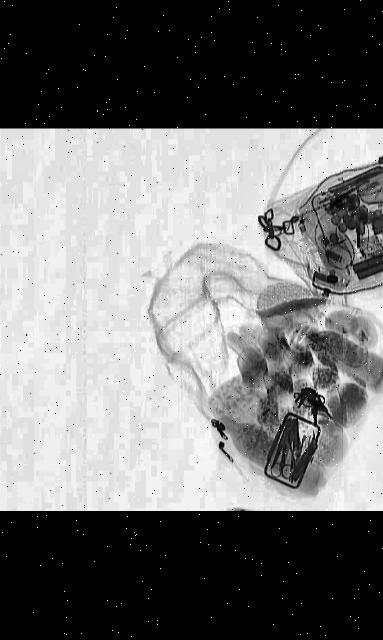Scissors: (268, 442, 293, 479)
